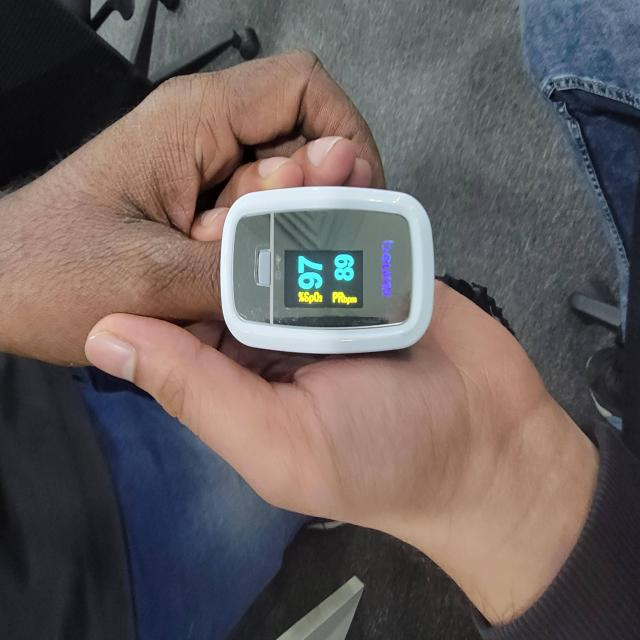spo2: (218, 186, 436, 359)
